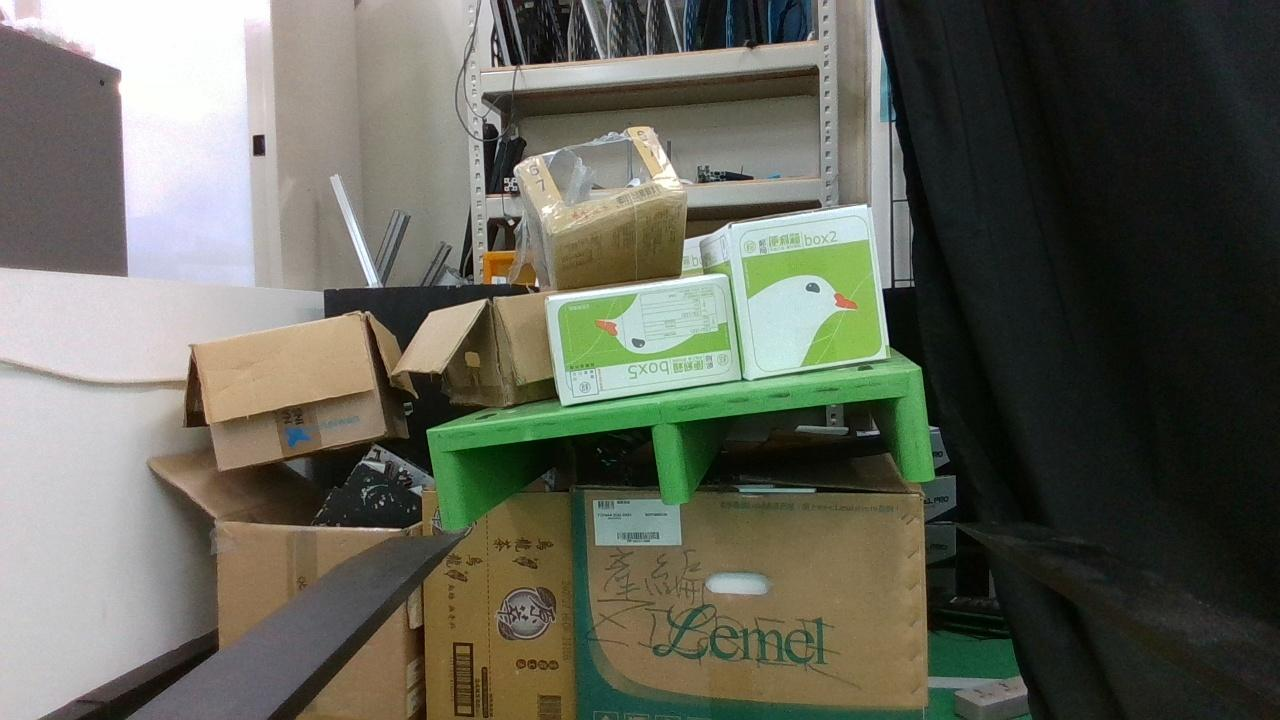Pallet: (426, 367, 936, 533)
